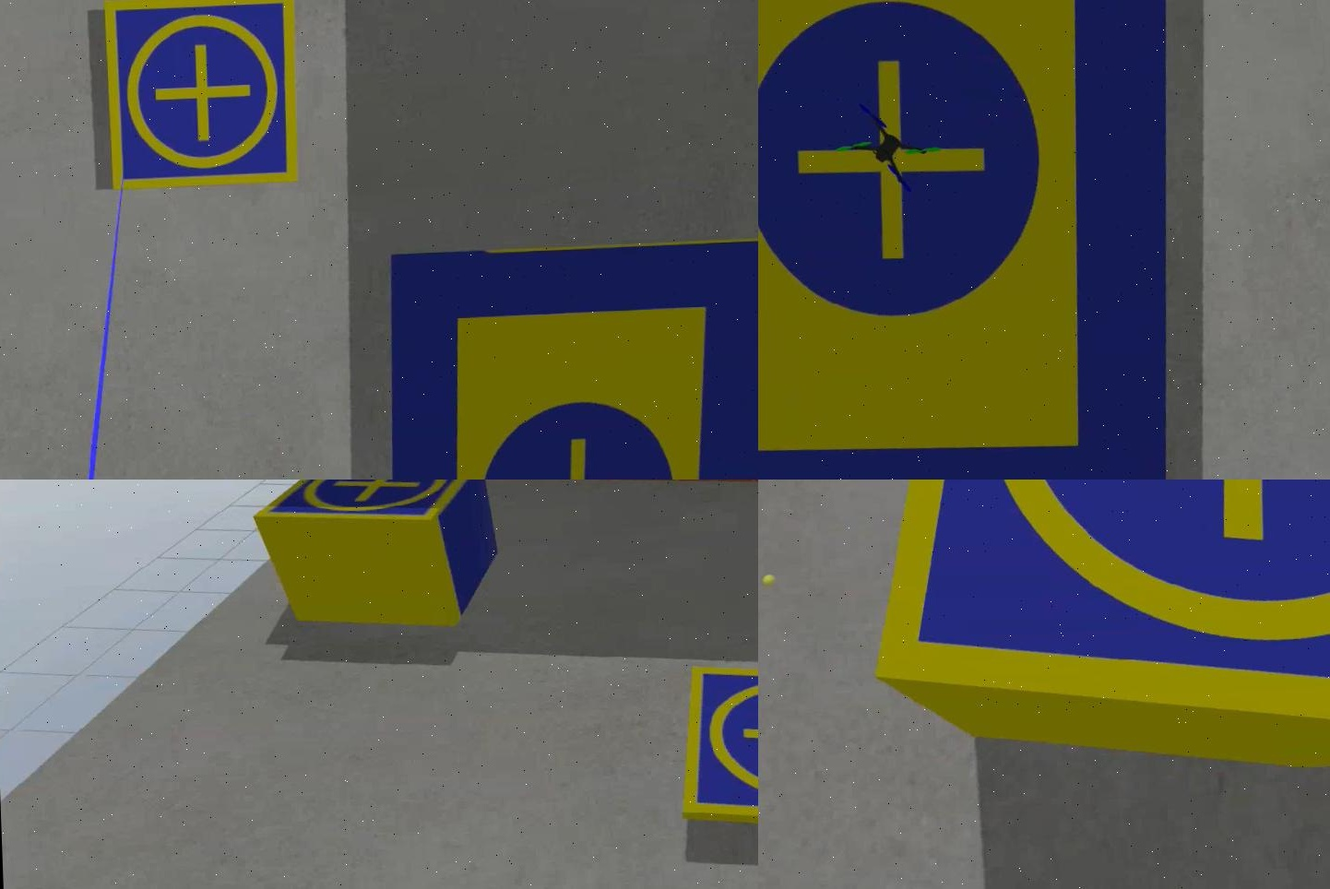large_base: (756, 1, 1190, 480), (375, 236, 756, 480)
small_base: (844, 480, 1328, 772), (101, 1, 303, 196), (672, 658, 756, 846), (247, 480, 484, 531)
